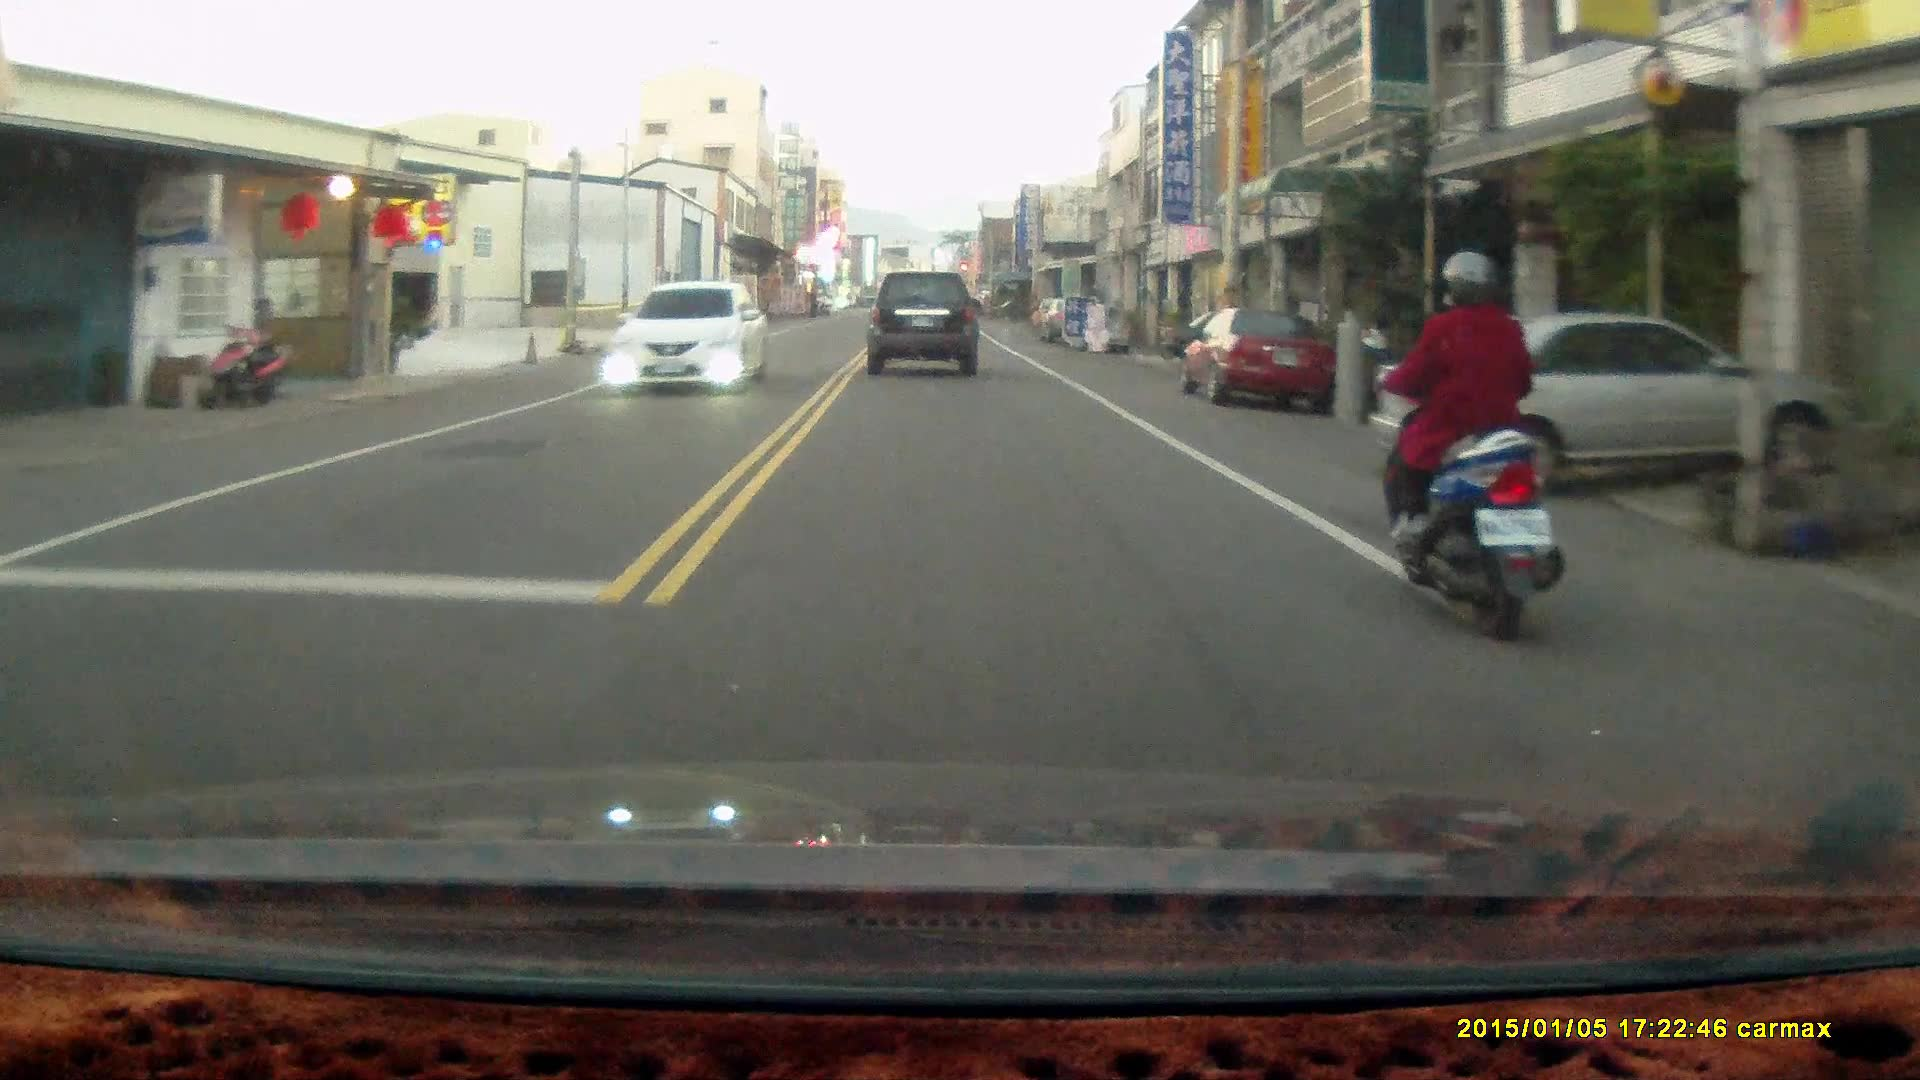rider: (1360, 241, 1564, 637)
vehicle: (1371, 310, 1834, 506), (610, 281, 771, 392), (1179, 302, 1336, 406), (866, 265, 983, 374)
